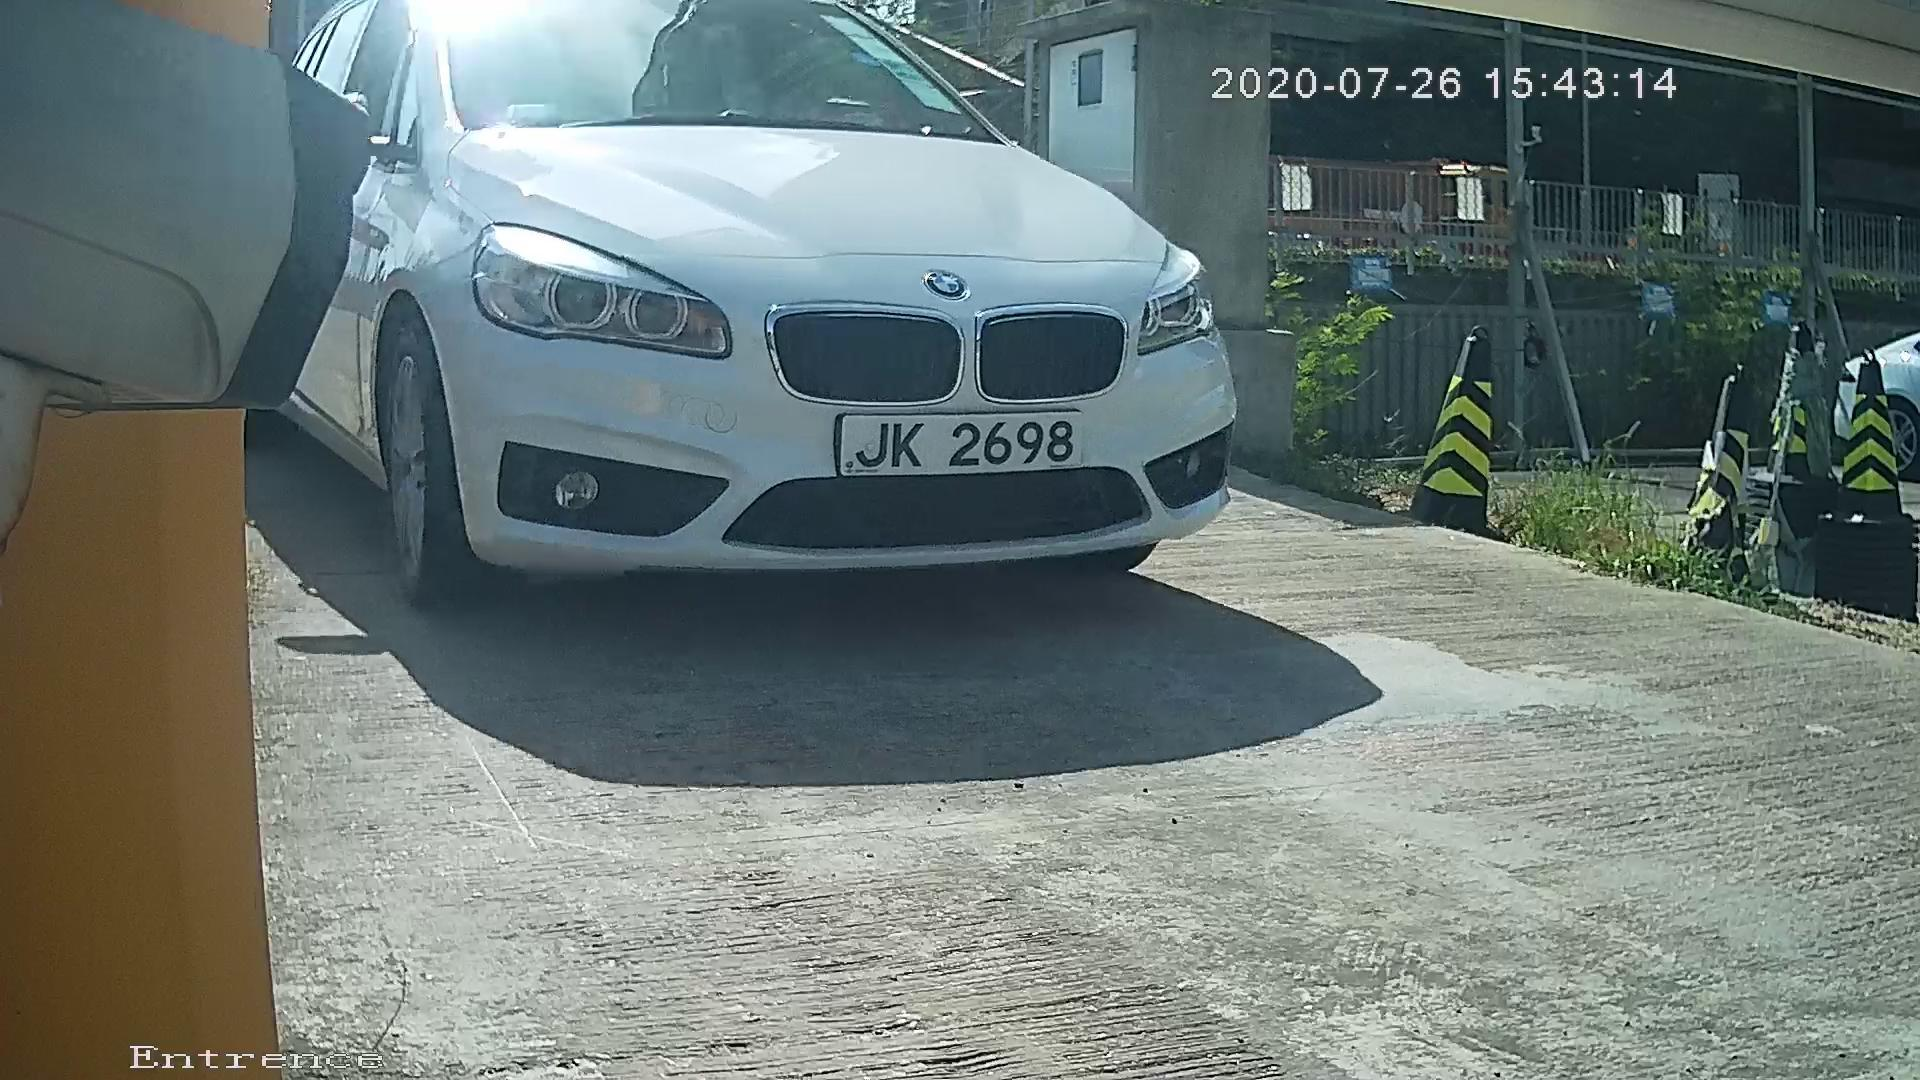privatecar: (241, 3, 1258, 646)
